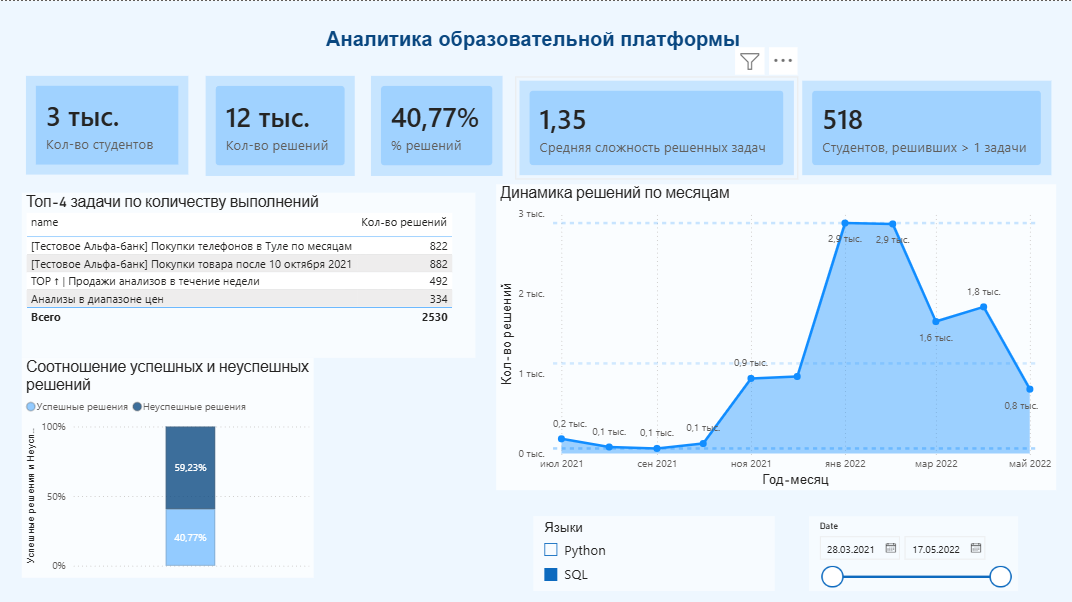

Layout of this report page (visuals, bound fields, positions):
{"tool":"powerbi","page":{"name":"Общая картина","canvas":[1280,720],"ordinal":0},"visuals":[{"type":"cardVisual","fields":{"Data":["public codesubmit.Кол-во студентов"]},"box":[27.1,84.3,204.3,128.6],"z":0},{"type":"cardVisual","fields":{"Data":["public codesubmit.Кол-во решений"]},"box":[241,85,188,129],"z":1000},{"type":"hundredPercentStackedColumnChart","title":"Соотношение успешных и неуспешных решений","fields":{"Y":["public codesubmit.Успешные решения","public codesubmit.Неуспешные решения"]},"box":[26.9,426.1,348.1,262.3],"z":2000},{"type":"cardVisual","fields":{"Data":["public codesubmit.Средняя сложность решенных задач"]},"box":[616,90,337,123],"z":3000},{"type":"cardVisual","fields":{"Data":["public codesubmit.% решений"]},"box":[438,85,167,129],"z":4000},{"type":"cardVisual","fields":{"Data":["public codesubmit.Студентов, решивших > 1 задачи"]},"box":[953,90,307,123],"z":5000},{"type":"lineChart","title":"Динамика решений по месяцам","fields":{"Category":["Календарь.Год-месяц"],"Y":["public codesubmit.Кол-во решений"]},"box":[592.5,218.8,667.5,365],"z":6000},{"type":"tableEx","title":"Топ-4 задачи по количеству выполнений","fields":{"Values":["public problem.name","public codesubmit.Кол-во решений"]},"box":[26.9,229.1,541.3,197.1],"z":7000},{"type":"textbox","box":[308.3,26.7,663.3,41.7],"z":8000},{"type":"slicer","fields":{"Values":["Календарь.Date"]},"box":[965.5,614.5,250,89.1],"z":9000},{"type":"slicer","fields":{"Values":["public language.name"]},"box":[637.3,614.5,288.2,89.1],"z":10000}]}

Visuals, with their boxes in screenshot pixels (x1, y1, x2, y2), scaled from the page's 1280x720 canvas onto the 1072x602 screenshot:
cardVisual - public codesubmit.Кол-во студентов: <box>23,70,194,178</box>
cardVisual - public codesubmit.Кол-во решений: <box>202,71,359,179</box>
"Соотношение успешных и неуспешных решений" hundredPercentStackedColumnChart: <box>23,356,314,576</box>
cardVisual - public codesubmit.Средняя сложность решенных задач: <box>516,75,798,178</box>
cardVisual - public codesubmit.% решений: <box>367,71,507,179</box>
cardVisual - public codesubmit.Студентов, решивших > 1 задачи: <box>798,75,1055,178</box>
"Динамика решений по месяцам" lineChart: <box>496,183,1055,488</box>
"Топ-4 задачи по количеству выполнений" tableEx: <box>23,192,476,356</box>
textbox: <box>258,22,814,57</box>
slicer - Календарь.Date: <box>809,514,1018,588</box>
slicer - public language.name: <box>534,514,775,588</box>
